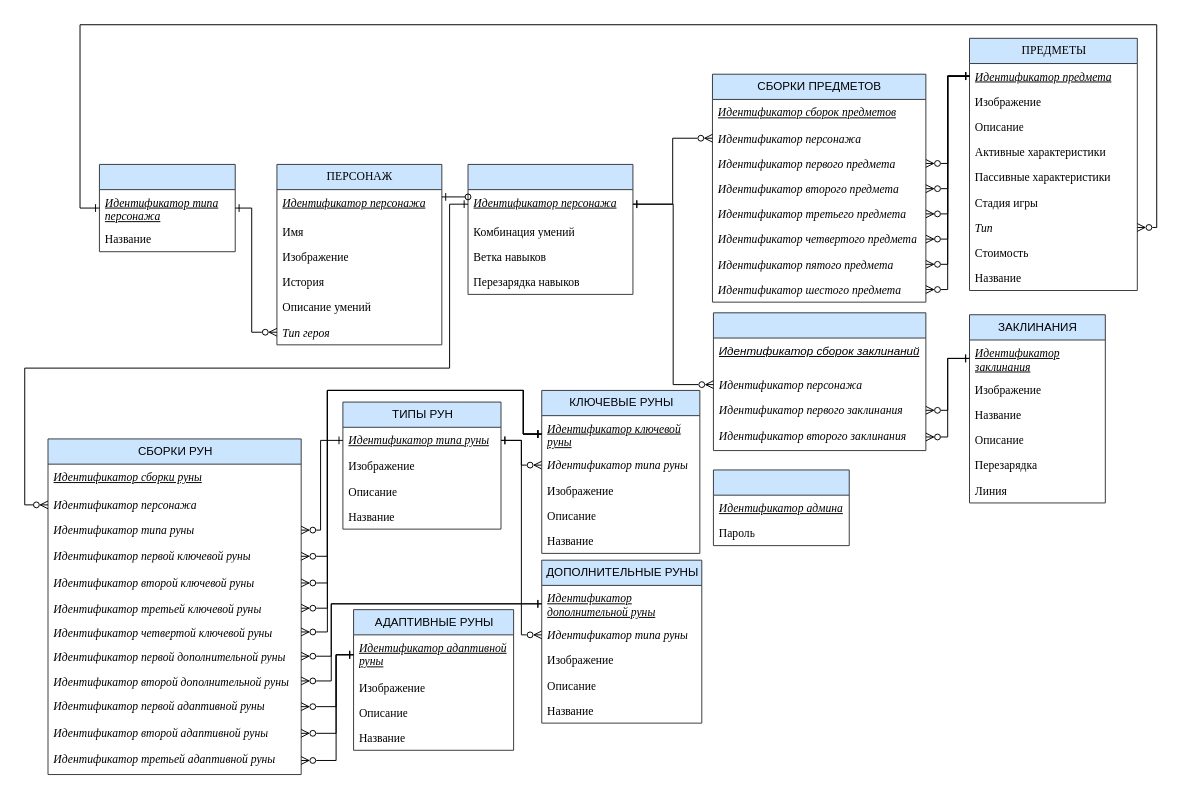
This 1182x794 diagram has some shape labels left out. Here are the shapes that lost their labels. From the top down, the box of each, then its label:
(98, 163, 235, 252): ТИПЫ ПЕРСОНАЖА
(467, 163, 633, 294): СВЕДЕНИЯ
(712, 312, 926, 451): СБОРКИ ЗАКЛИНАНИИЙ
(712, 469, 849, 546): АДМИНЫ
